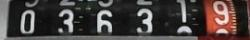digits: (56, 0, 78, 34), (134, 8, 153, 32), (212, 0, 229, 25), (95, 9, 112, 32), (20, 10, 35, 34), (176, 0, 187, 22)
